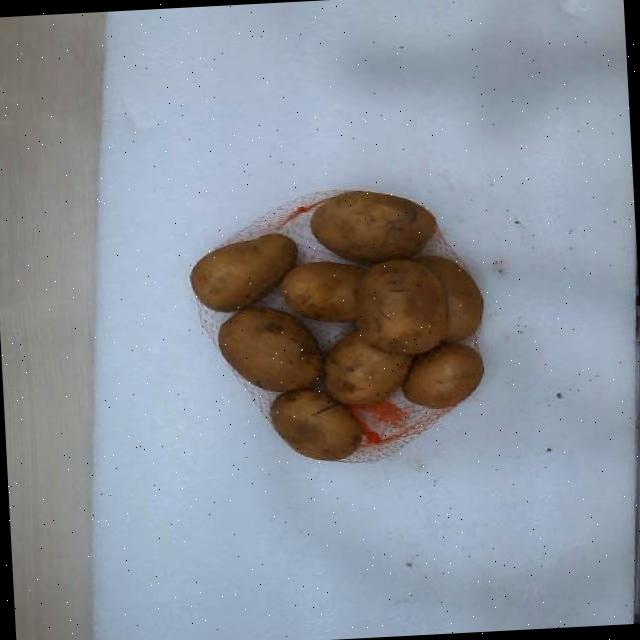potato: (311, 190, 436, 264), (358, 258, 448, 354), (218, 308, 323, 390), (191, 232, 295, 311), (325, 330, 413, 405), (270, 388, 361, 459), (417, 255, 483, 341), (403, 343, 483, 407), (281, 261, 361, 321)
